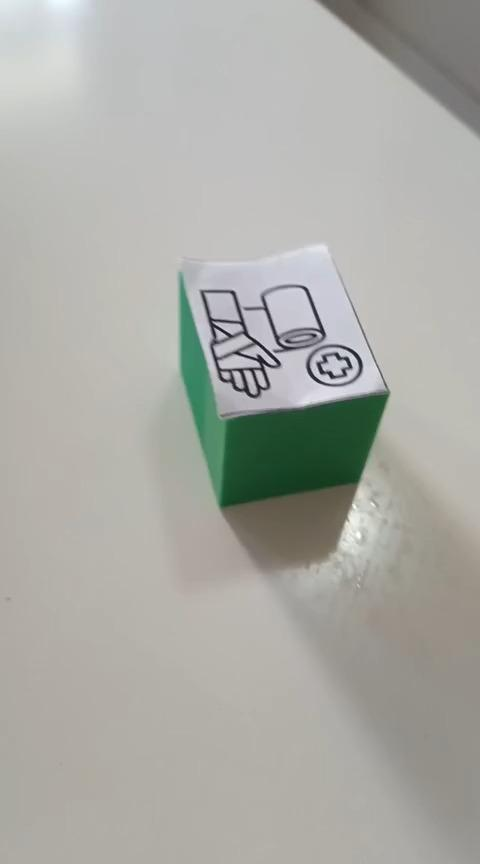Bandages: (176, 242, 390, 508)
